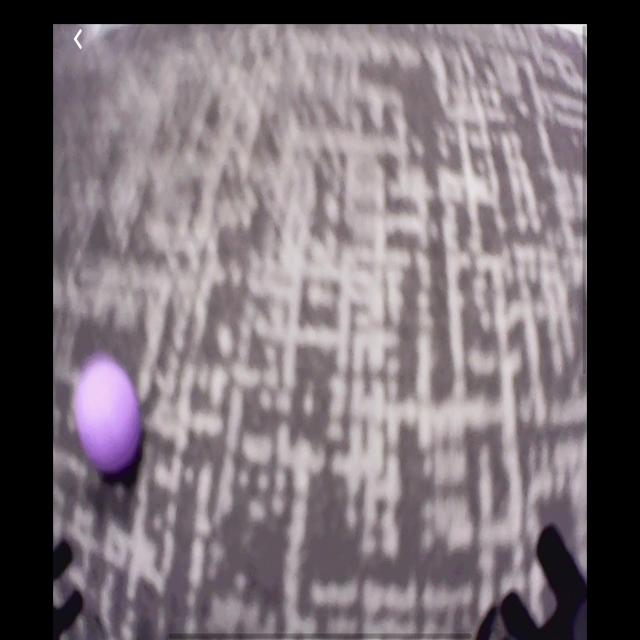ball: (73, 358, 141, 474)
